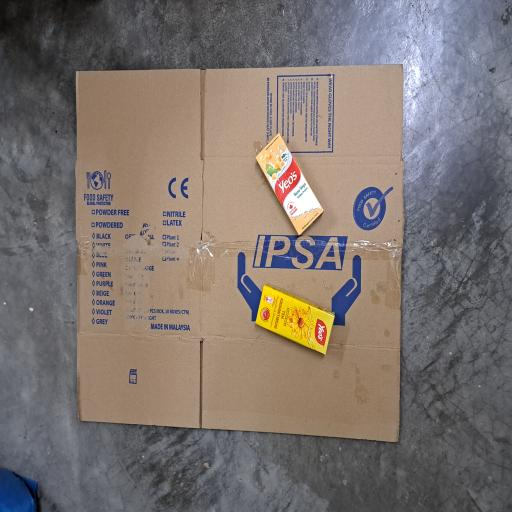cardboard: (53, 86, 340, 512)
